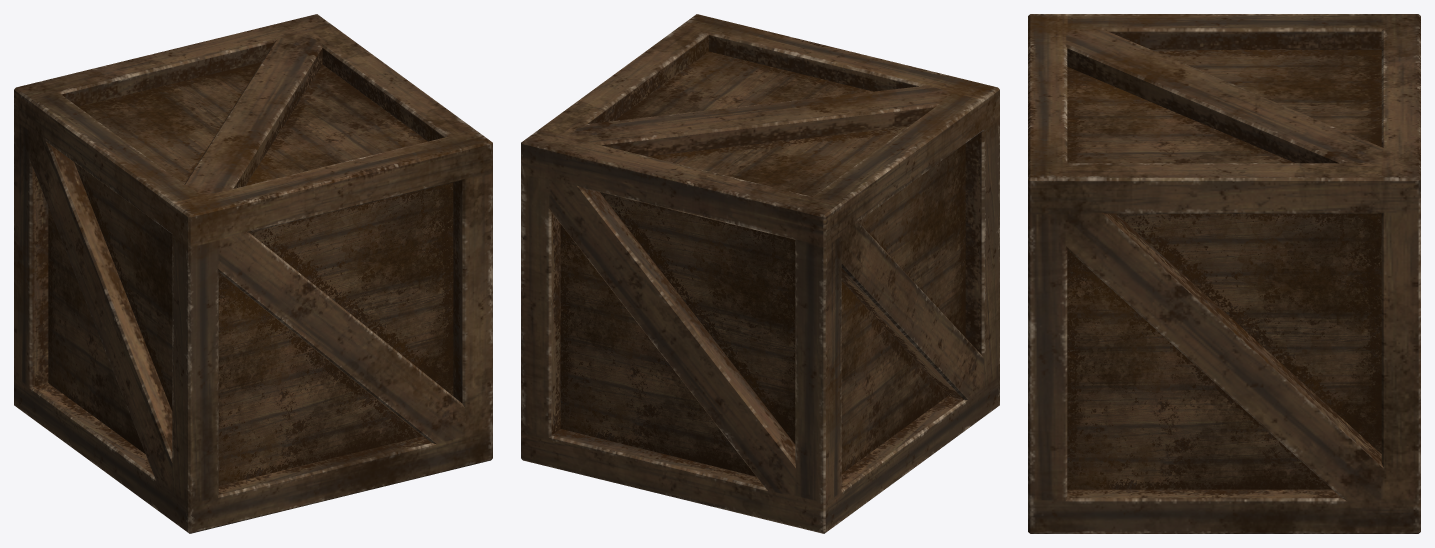
File: WoodenBox.gltf
3 renders of one model, left to right at view 1: azimuth 30°, elevation 25°; view 2: azimuth 150°, elevation 25°; view 3: azimuth 270°, elevation 25°, orthographic. The views are drawn at different scales.
Visible parts, largest first — view 1: Box:PIV; view 2: Box:PIV; view 3: Box:PIV.
Boxes of the visible parts, x1,y1,x2,y2 form: Box:PIV: [14, 14, 492, 533]; Box:PIV: [521, 14, 999, 533]; Box:PIV: [1028, 14, 1420, 533].
Size of the model in its own units: 7.75 by 7.75 by 7.75.
Materials: 1 (1 with a texture image).
